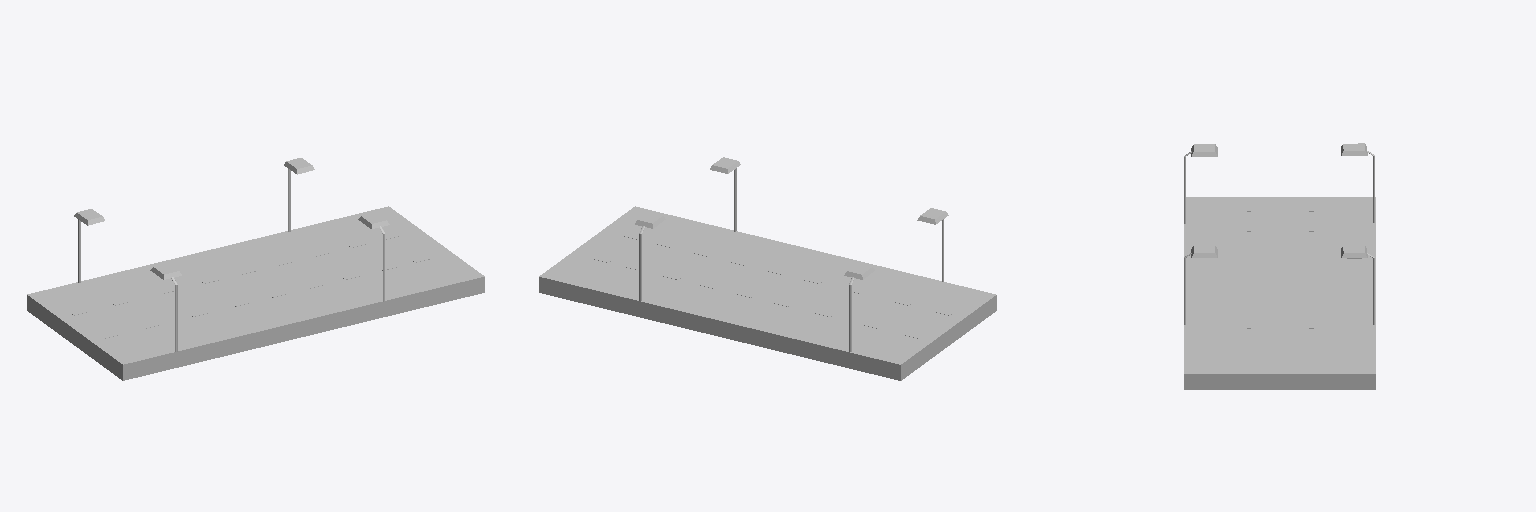
File: field.obj
3 renders of one model, left to right at view 1: azimuth 30°, elevation 25°; view 2: azimuth 150°, elevation 25°; view 3: azimuth 270°, elevation 25°, orthographic.
Parts seen in each view (by area): view 1: cylinder.027; view 2: cylinder.027; view 3: cylinder.027.
Boxes of the visible parts, box(x1,y1,x2,y2) form: cylinder.027: box(27, 158, 484, 380); cylinder.027: box(539, 157, 996, 380); cylinder.027: box(1184, 143, 1375, 389).
Bounding box in the file's own units: 39.05 × 9.44 × 17.98.